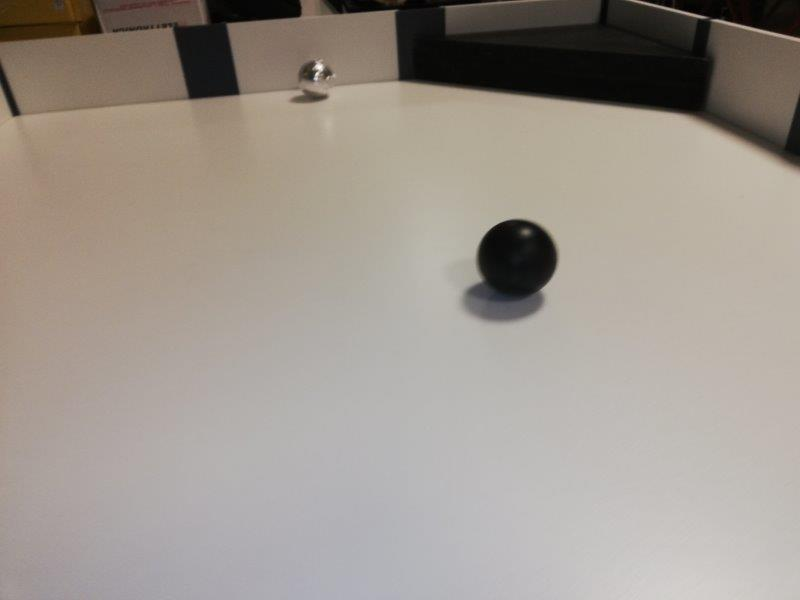bianca: (296, 58, 335, 97)
nera: (477, 218, 556, 298)
